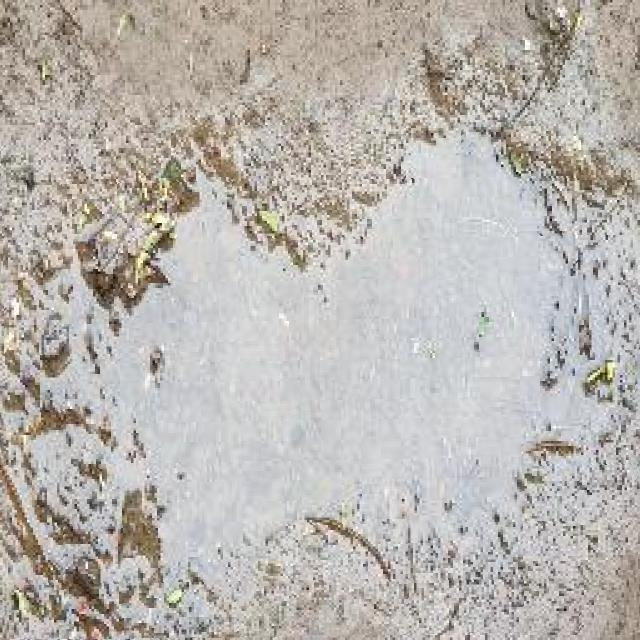puddle: (1, 123, 640, 639)
